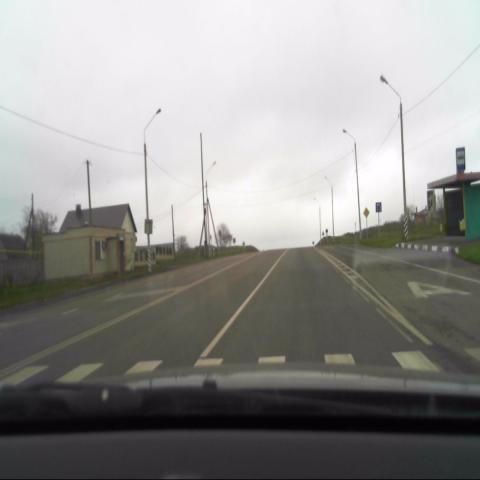2_1: (362, 207, 370, 218)
5_15_5: (375, 200, 382, 213)
5_16: (454, 146, 467, 172)
